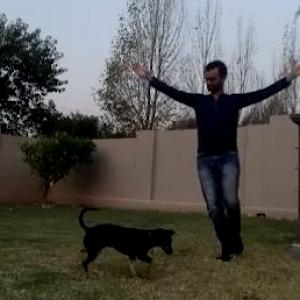takeoff: (128, 57, 299, 264)
